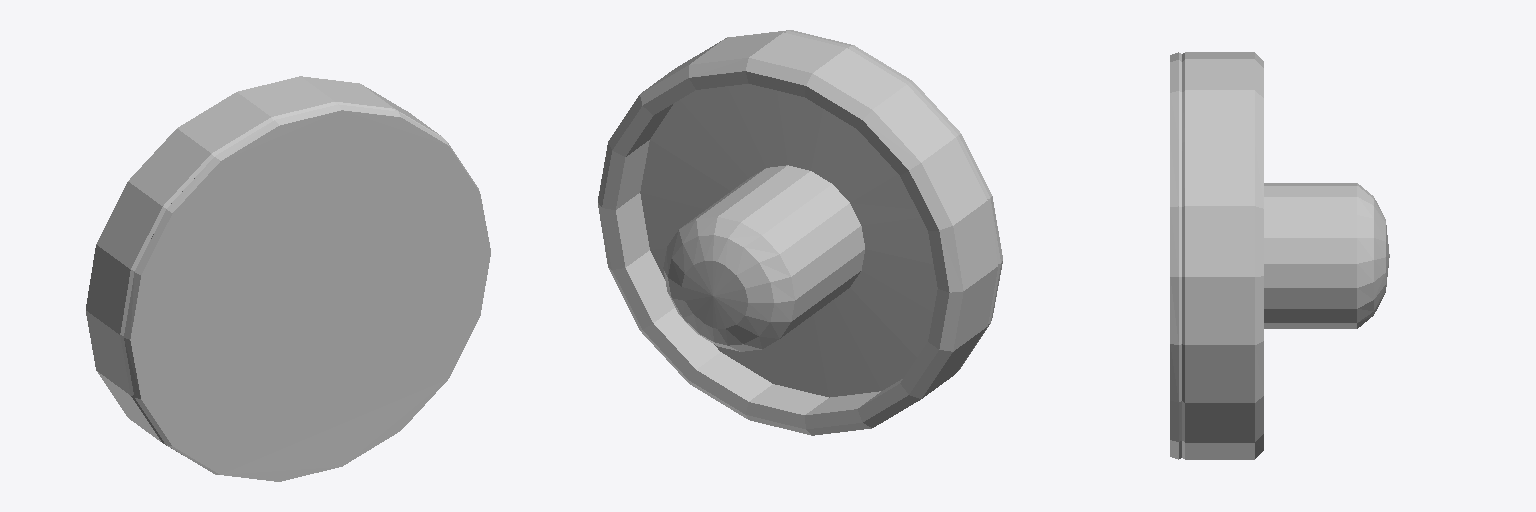
File: hockeypaddle.obj
3 views of the same model, side by side, from view 1: azimuth 30°, elevation 25°; view 2: azimuth 150°, elevation 25°; view 3: azimuth 270°, elevation 25° (orthographic).
Visible parts, largest first — view 1: submesh_0; view 2: submesh_0; view 3: submesh_0.
Part boxes in pixels (x1,y1,x2,y2): submesh_0: (86,76,490,481); submesh_0: (598,30,1002,435); submesh_0: (1170,52,1389,459).
Size of the model in its own units: 1.37 by 1.29 by 0.7104.